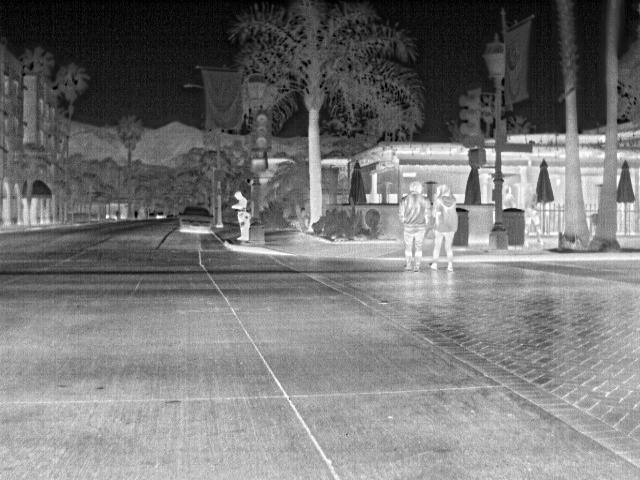car: (176, 204, 214, 234)
person: (400, 179, 431, 272), (427, 185, 459, 269), (230, 189, 252, 244), (522, 185, 542, 235)
